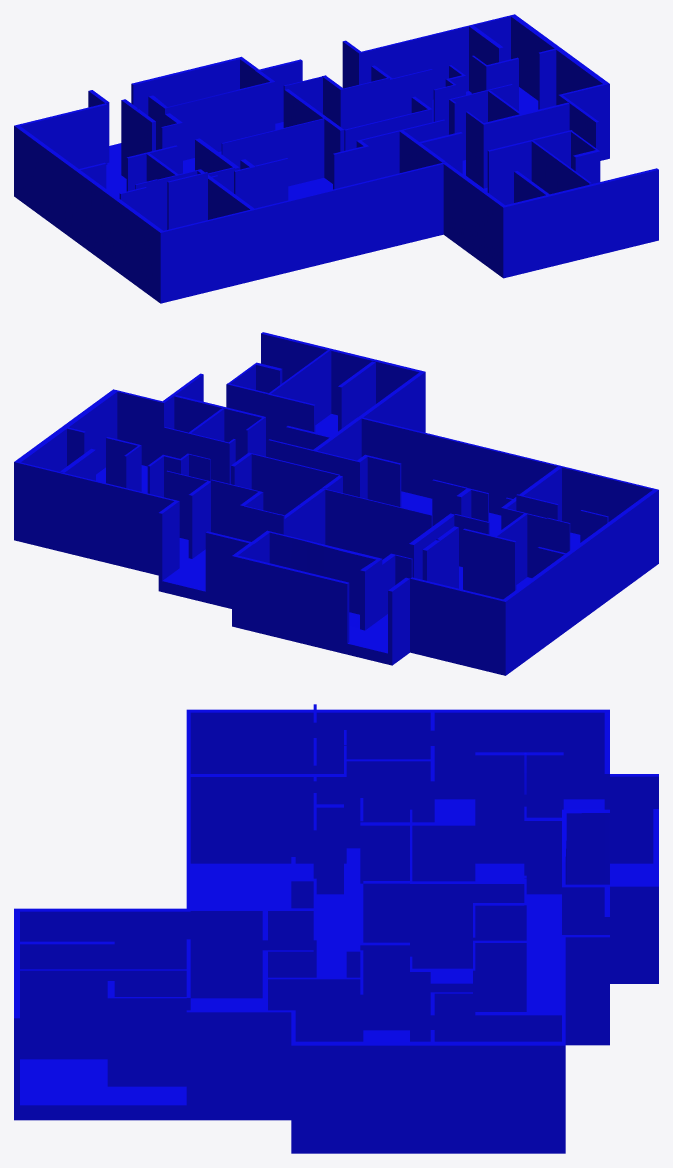
File: floor1243.obj
3 renders of one model, top to bottom at view 1: azimuth 30°, elevation 25°; view 2: azimuth 150°, elevation 25°; view 3: azimuth 270°, elevation 25°, orthographic. The views are drawn at different scales.
Parts seen in each view (by area): view 1: pCube2; view 2: pCube2; view 3: pCube2.
Boxes of the visible parts, x1=… form: pCube2: x1=14, y1=14, x2=658, y2=303; pCube2: x1=14, y1=332, x2=658, y2=675; pCube2: x1=14, y1=704, x2=658, y2=1153.
Size of the model in its own units: 48.14 by 8.12 by 38.38.
